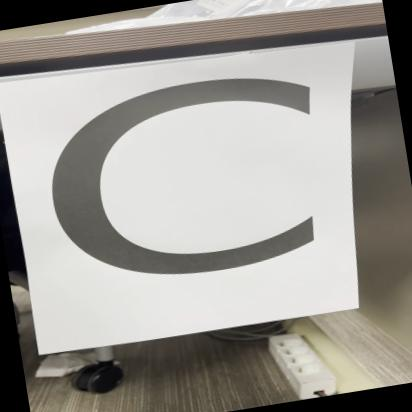seat: (0, 32, 376, 357)
